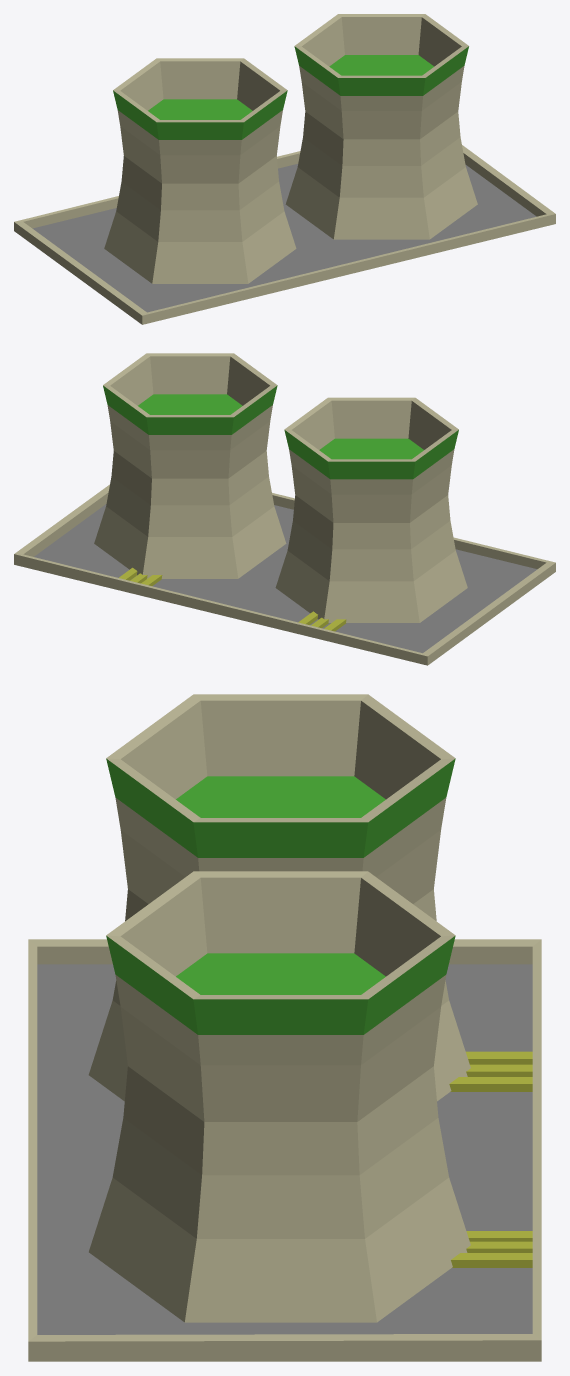
The model's file is Nuke Plant.fbx.
The picture shows the model from 3 angles, top to bottom: view 1: azimuth 30°, elevation 25°; view 2: azimuth 150°, elevation 25°; view 3: azimuth 270°, elevation 25°; orthographic projection. The views are drawn at different scales.
Parts seen in each view (by area): view 1: Nuke waste tubes; view 2: Nuke waste tubes; view 3: Nuke waste tubes.
Boxes of the visible parts, left/top/right/bottom form: Nuke waste tubes: left=14, top=14, right=555, bottom=324; Nuke waste tubes: left=14, top=353, right=555, bottom=665; Nuke waste tubes: left=28, top=694, right=541, bottom=1361.
Bounding box in the file's own units: 1034 × 379 × 555.
